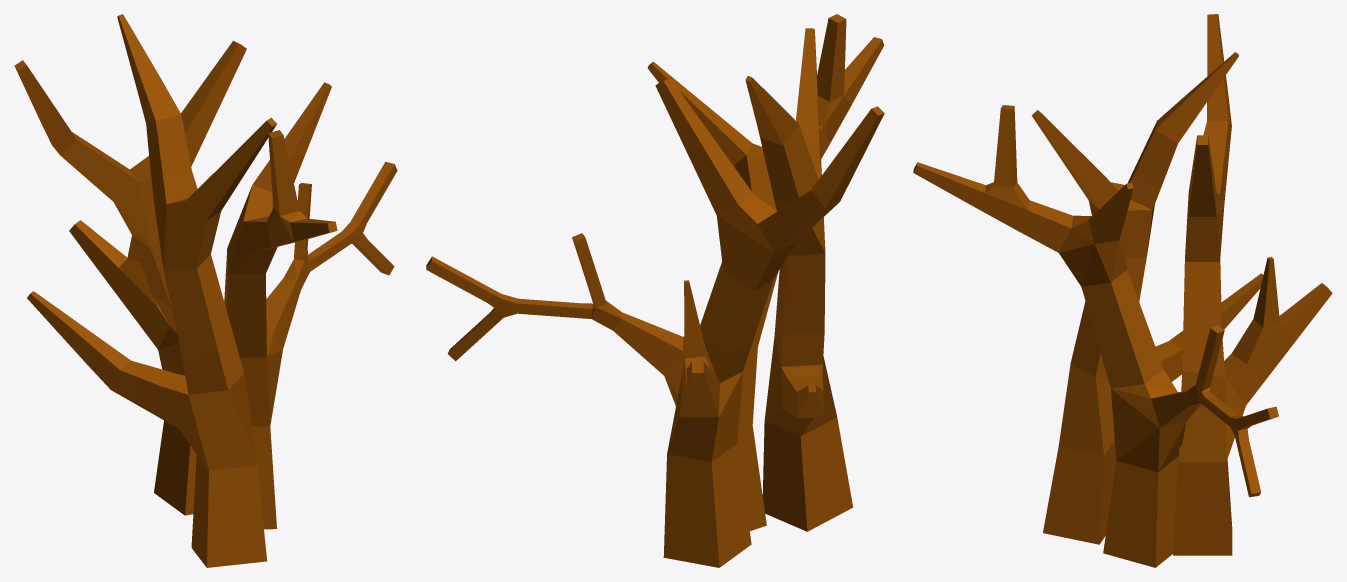
Rendered from Bush1.fbx.
3 views of the same model, side by side, from view 1: azimuth 30°, elevation 25°; view 2: azimuth 150°, elevation 25°; view 3: azimuth 270°, elevation 25° (orthographic). The views are drawn at different scales.
Visible parts, largest first — view 1: Vert.003; view 2: Vert.003; view 3: Vert.003.
Boxes of the visible parts, left/top/right/bottom form: Vert.003: left=14, top=14, right=397, bottom=567; Vert.003: left=426, top=14, right=884, bottom=567; Vert.003: left=913, top=14, right=1332, bottom=567.
Bounding box in the file's own units: 92.52 × 105 × 85.94.
